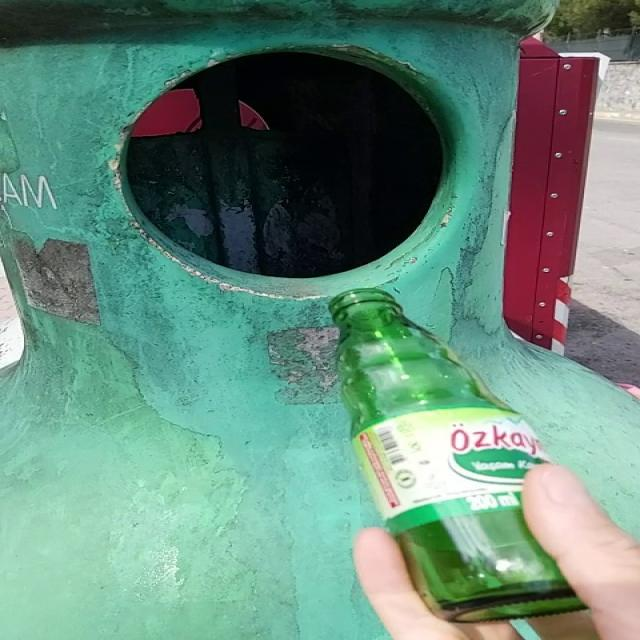glass: (331, 289, 585, 622)
